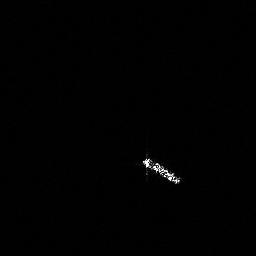ship: (139, 152, 183, 187)
